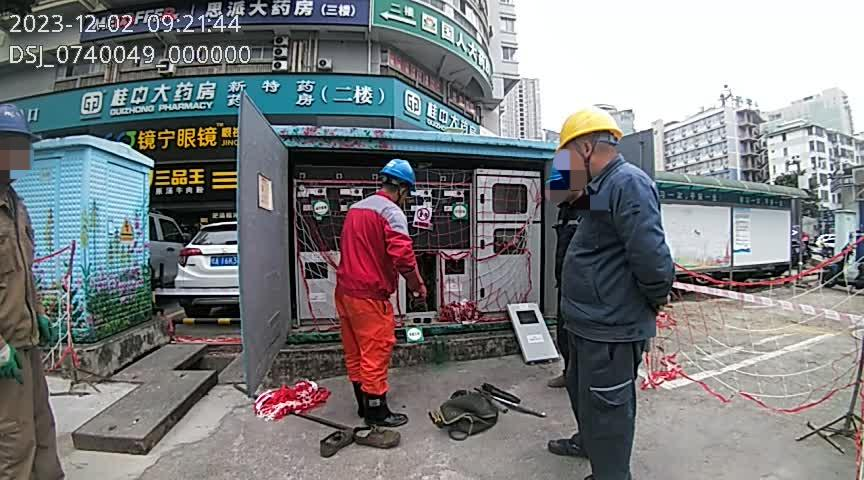halt: (557, 113, 626, 176), (3, 108, 37, 185), (379, 163, 419, 202), (550, 162, 580, 205)
inear: (575, 139, 603, 177)
